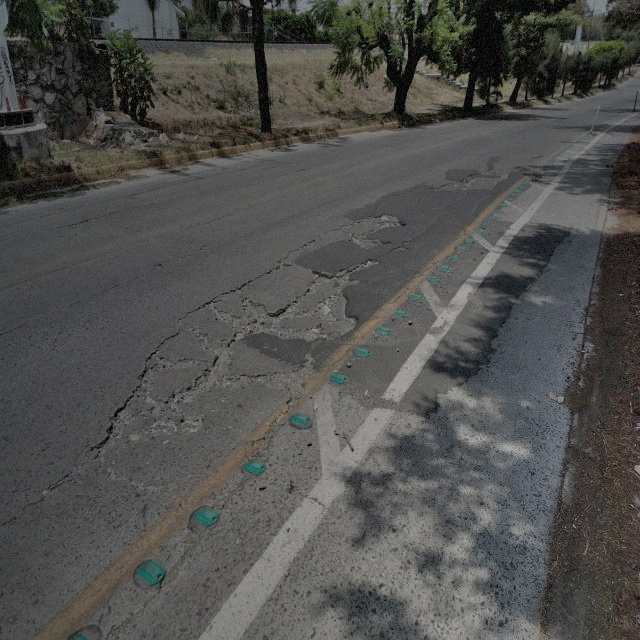pothole: (194, 332, 235, 392), (239, 292, 288, 342), (98, 396, 127, 458), (266, 290, 302, 325), (357, 213, 407, 230), (306, 267, 335, 295)
